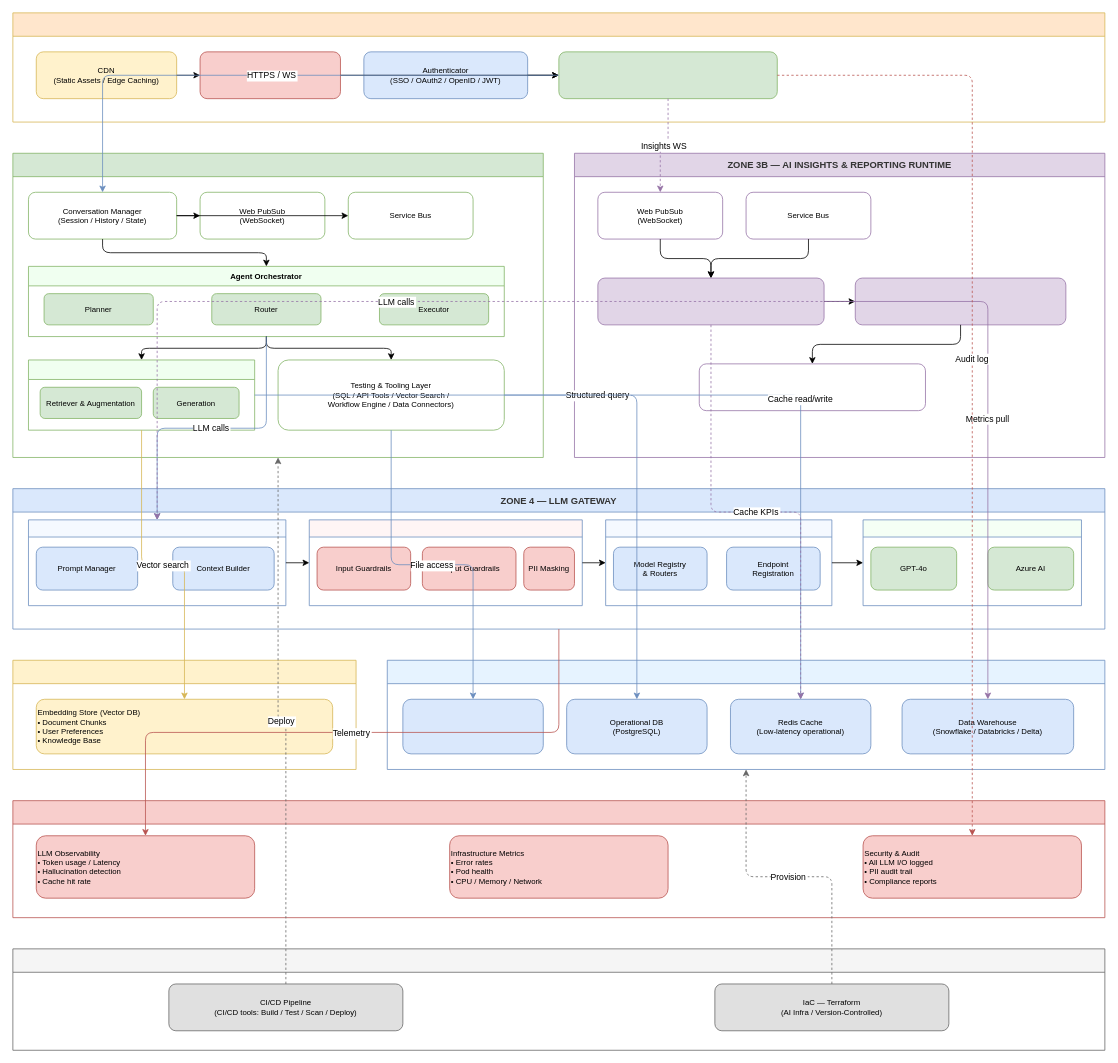
This 1118x1063 diagram has some shape labels left out. Here are the shapes that lost their labels. From the top down, the box of each, then its label:
(199, 51, 340, 99): WAF (Web Application Firewall)
(12, 12, 1105, 122): ZONE 2 — SECURITY & API ACCESS
(558, 51, 777, 99): API Gateway (Route / Throttle / Transform / Auth / Logging)
(12, 152, 543, 457): ZONE 3A — CONVERSATIONAL AI RUNTIME
(597, 277, 824, 325): Feature Store (Precomputed KPIs / Aggregations / Metrics)
(854, 277, 1066, 325): Insight Narrator (LLM) (Summarise enterprise data insights)
(28, 359, 255, 430): RAG Pipeline
(698, 363, 925, 411): Report & Alert Generator (PDF Reports / Email / Dashboard)
(28, 519, 286, 606): Prompt & Context Processing
(308, 519, 582, 606): AI Safety
(605, 519, 832, 606): Model Endpoint
(862, 519, 1081, 606): LLM Provider
(12, 659, 356, 769): ZONE 5A — KNOWLEDGE / VECTOR LAYER
(402, 698, 543, 754): Fabric Store (Blobs / Files)
(386, 659, 1105, 769): ZONE 5B — ENTERPRISE DATA & ANALYTICS
(12, 800, 1105, 918): ZONE 6 — OBSERVABILITY & GOVERNANCE
(12, 948, 1105, 1050): ZONE 7 — DEVOPS & DEPLOYMENT
